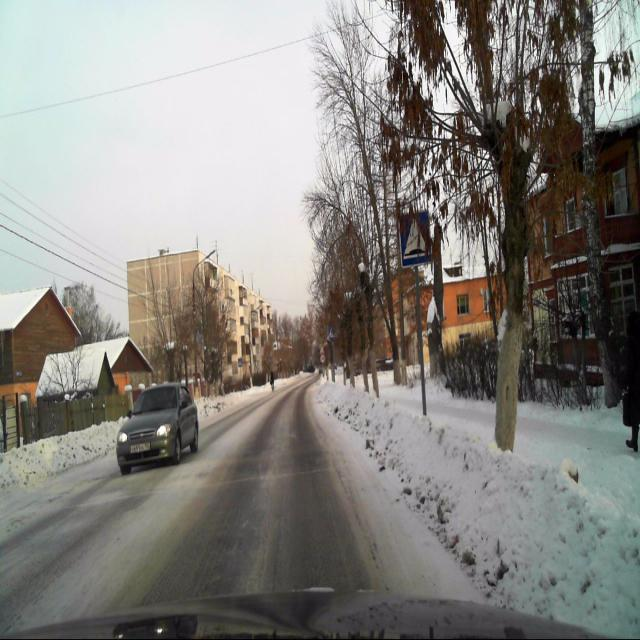object: (413, 267, 427, 416)
road sign: (400, 212, 432, 268)
